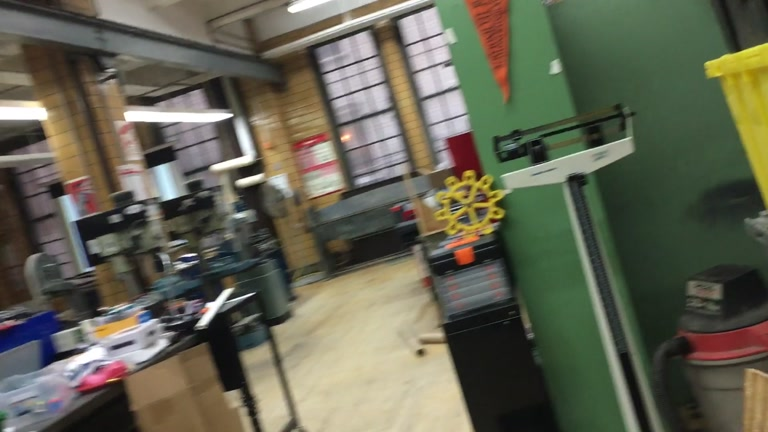gear: (433, 168, 506, 238)
